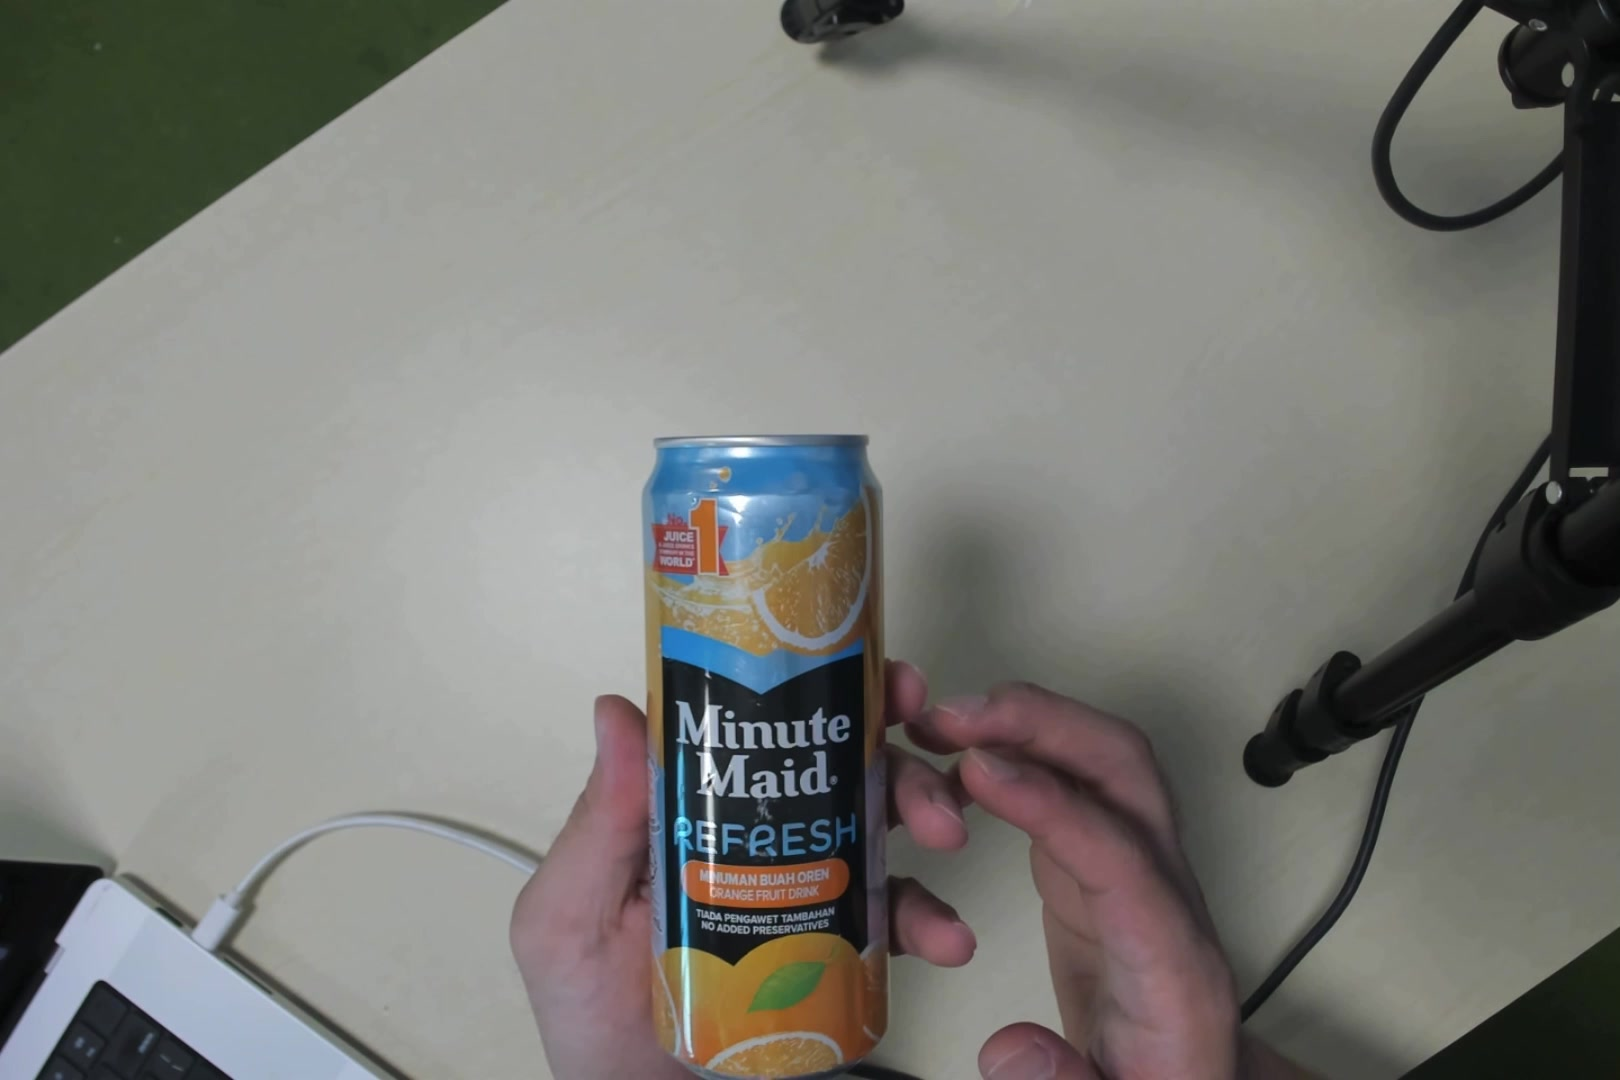SoftDrinks_200-299g_Halal_Healthy: (622, 425, 890, 1040)
